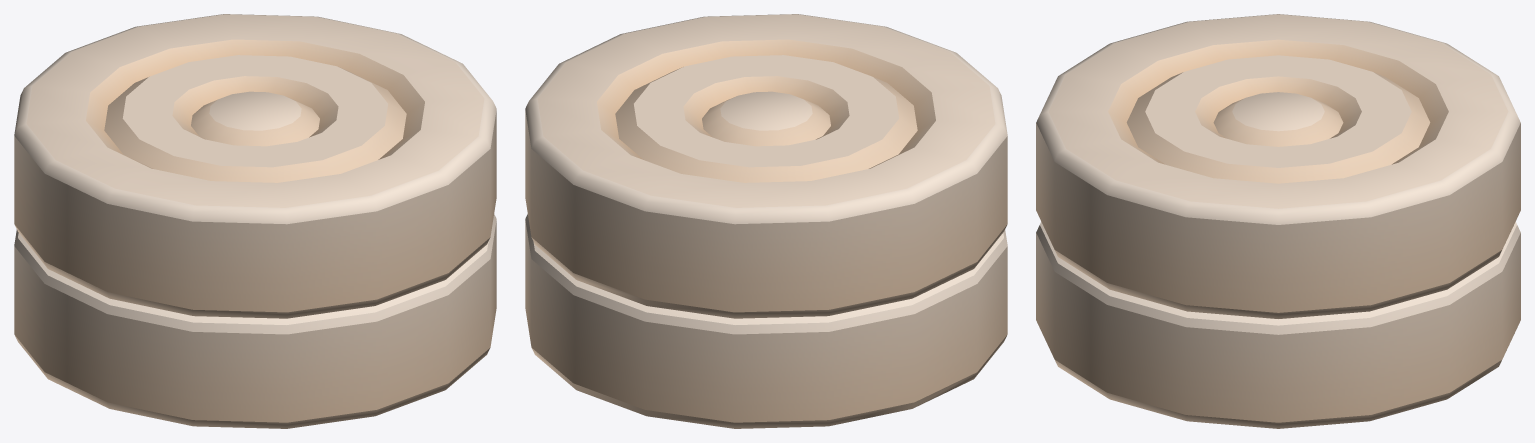
Rendered from checker_white_double.gltf.
The picture shows the model from 3 angles, left to right: view 1: azimuth 30°, elevation 25°; view 2: azimuth 150°, elevation 25°; view 3: azimuth 270°, elevation 25°; orthographic projection.
Parts seen in each view (by area): view 1: checker_white_double; view 2: checker_white_double; view 3: checker_white_double.
Part boxes in pixels (x1,y1,x2,y2): checker_white_double: (14, 14, 496, 428); checker_white_double: (525, 14, 1007, 428); checker_white_double: (1036, 14, 1520, 428).
Size of the model in its own units: 0.8 by 0.4 by 0.8.
Materials: 1 (1 with a texture image).
